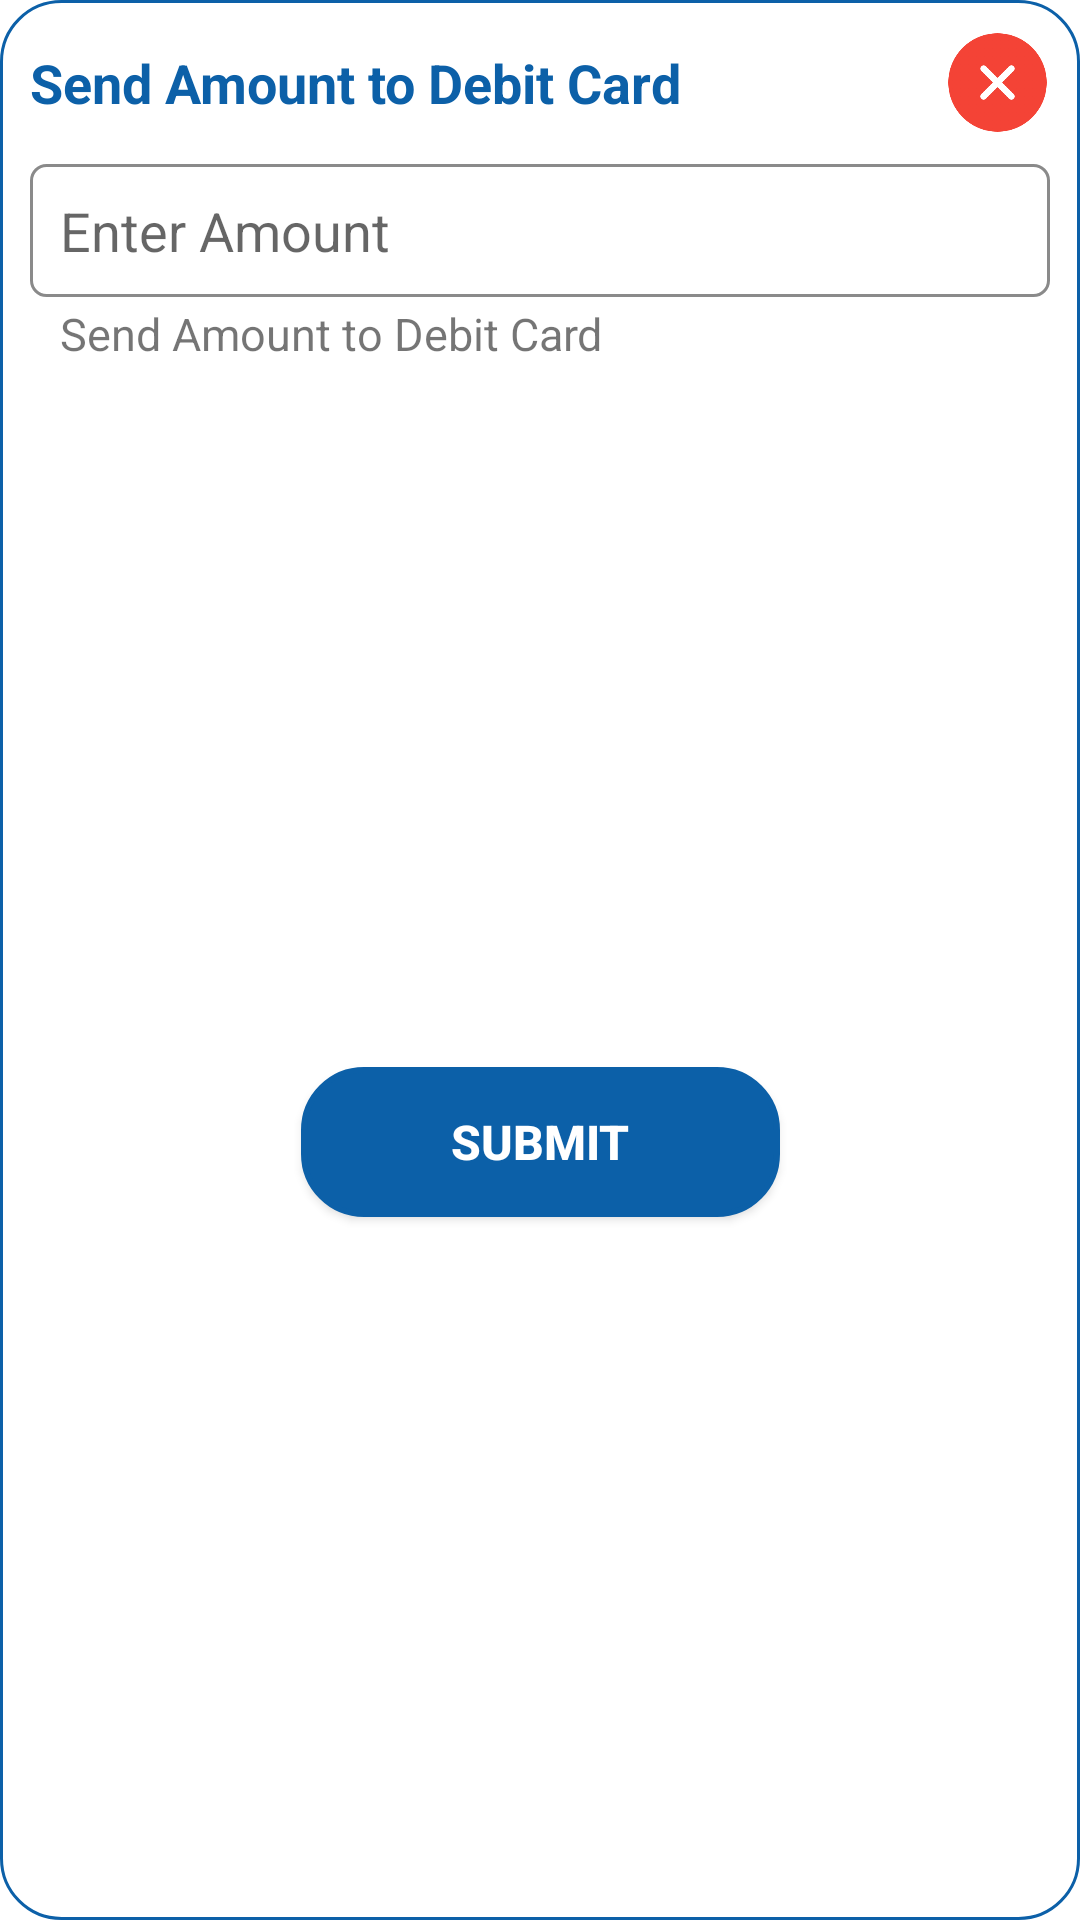

Where icons sit on this 1080*1920 app screen, as (x1, y1, x2, y2):
failed: (948, 33, 1047, 132)
